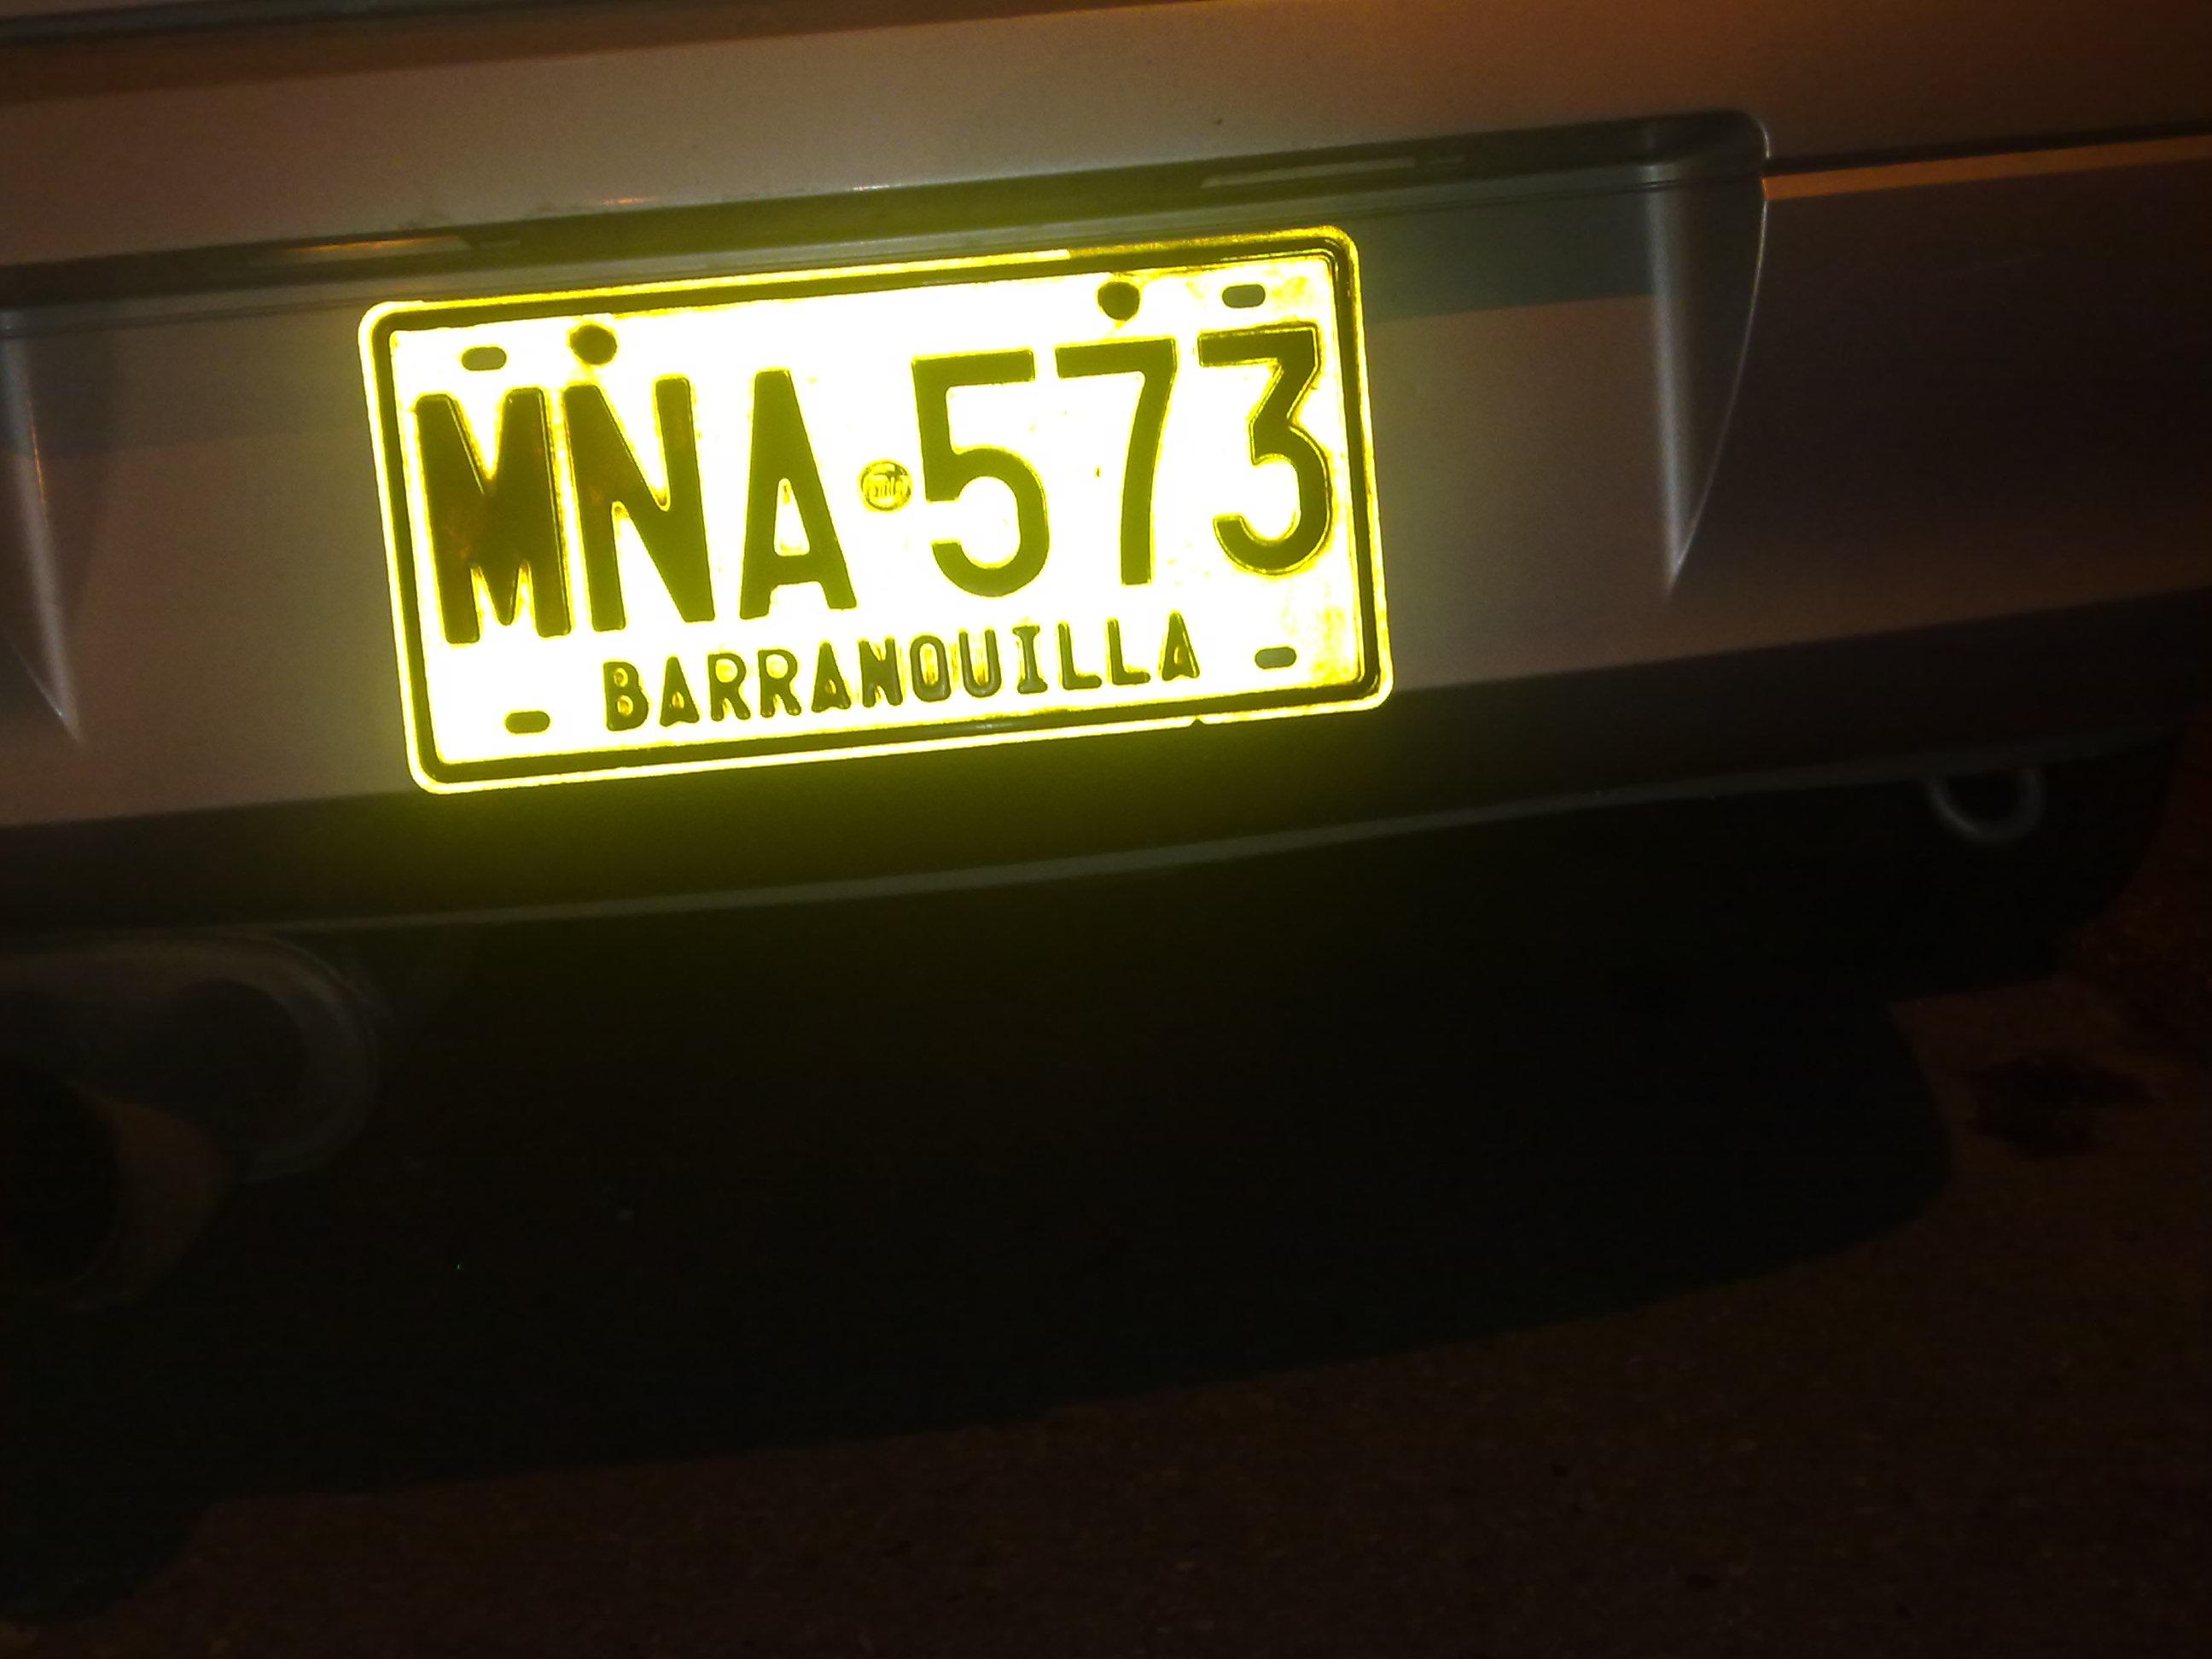placas: (348, 216, 1401, 802)
